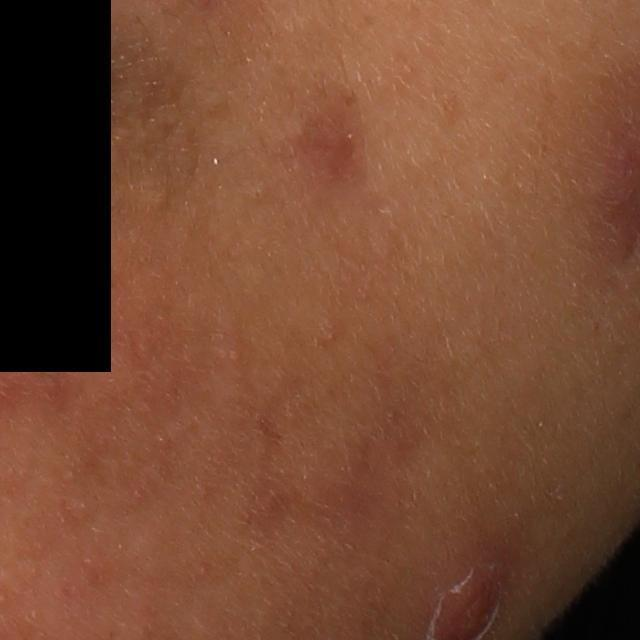comedo: (136, 182, 175, 215), (247, 186, 265, 203)
